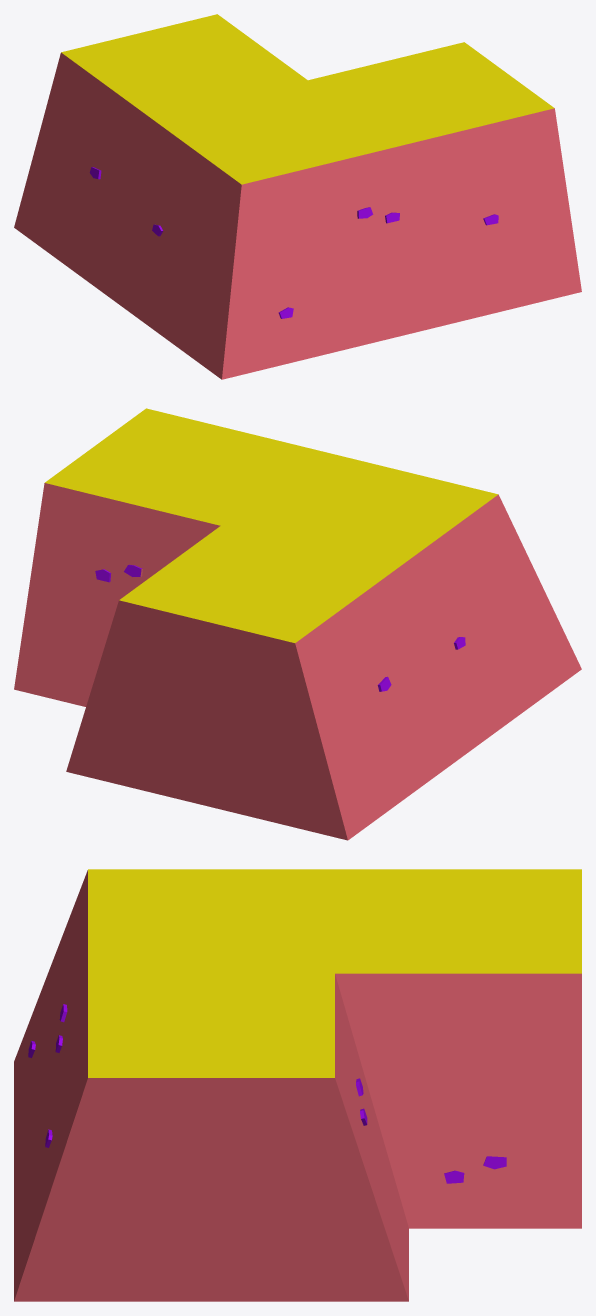
The model's file is ground-japan-edge.fbx.
3 renders of one model, top to bottom at view 1: azimuth 30°, elevation 25°; view 2: azimuth 150°, elevation 25°; view 3: azimuth 270°, elevation 25°, orthographic. The views are drawn at different scales.
Visible parts, largest first — view 1: ground-japan-edge; view 2: ground-japan-edge; view 3: ground-japan-edge.
Boxes of the visible parts, x1,y1,x2,y2 form: ground-japan-edge: (14, 14, 581, 379); ground-japan-edge: (14, 408, 581, 840); ground-japan-edge: (14, 869, 581, 1301).
Size of the model in its own units: 23 by 10 by 23.
